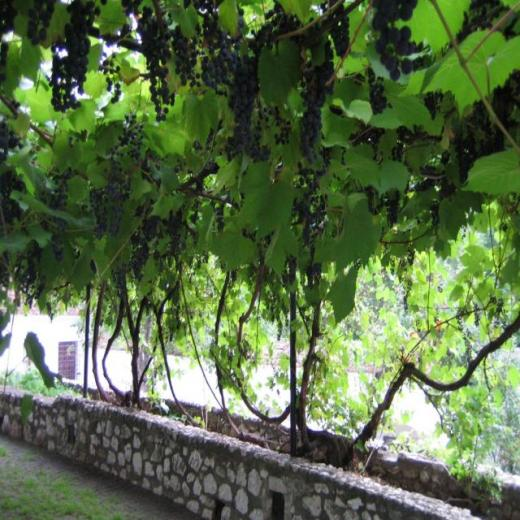Orange: (0, 0, 519, 341), (490, 300, 504, 326), (462, 328, 472, 360), (471, 301, 482, 325), (454, 305, 462, 328)
